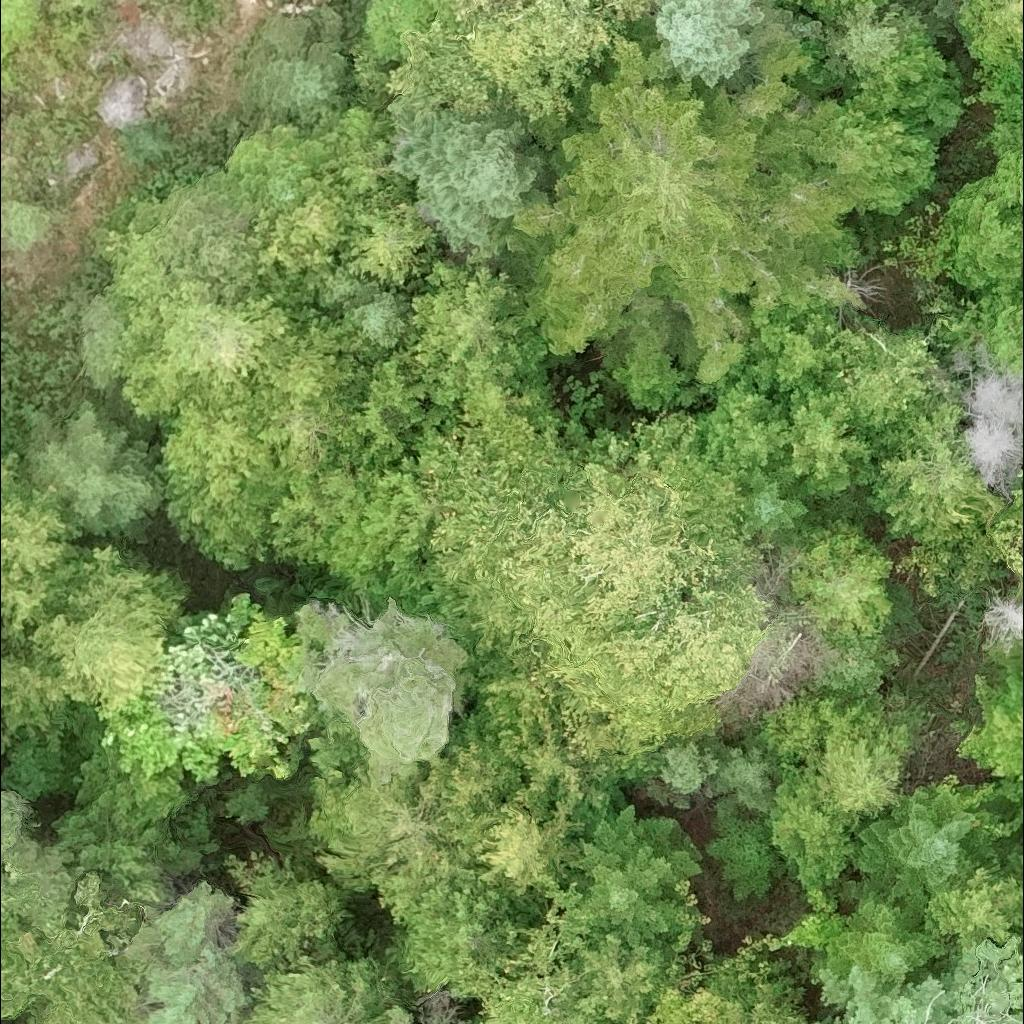crown: (488, 34, 874, 385), (421, 409, 776, 765), (98, 594, 317, 783), (283, 596, 474, 788), (0, 547, 192, 731), (384, 0, 659, 126), (0, 834, 142, 1023), (198, 324, 352, 494), (389, 102, 547, 263), (152, 396, 289, 570), (403, 244, 548, 407), (98, 223, 209, 421), (246, 112, 376, 275), (799, 930, 1023, 1023), (23, 397, 163, 540), (387, 877, 544, 1001), (571, 801, 704, 943), (317, 756, 451, 891), (849, 781, 999, 901), (651, 0, 824, 93), (221, 845, 351, 968), (804, 690, 925, 819), (814, 870, 950, 984), (839, 9, 956, 137), (951, 657, 1023, 846), (783, 517, 897, 636), (759, 762, 870, 883), (478, 901, 586, 1023), (405, 707, 527, 813), (152, 186, 263, 300), (778, 378, 880, 501), (159, 291, 290, 386), (247, 3, 349, 125), (869, 446, 988, 545), (0, 447, 86, 583), (236, 953, 402, 1023), (198, 125, 315, 222), (444, 798, 554, 897), (840, 109, 938, 215), (696, 366, 790, 476), (923, 851, 1023, 950), (700, 792, 788, 903), (342, 196, 439, 295), (943, 174, 1023, 290), (803, 1, 914, 81), (466, 654, 562, 744), (0, 555, 83, 650), (954, 341, 1023, 441), (697, 741, 783, 813), (741, 467, 820, 544), (819, 626, 901, 697), (963, 414, 1023, 496), (955, 0, 1023, 71), (78, 293, 121, 386), (649, 985, 746, 1023), (655, 741, 720, 795), (989, 121, 1023, 222), (989, 480, 1023, 577), (981, 586, 1023, 649), (0, 0, 49, 54), (719, 997, 799, 1023), (795, 0, 894, 20), (0, 788, 22, 857), (984, 633, 1023, 663), (384, 998, 414, 1023), (776, 0, 801, 10), (1016, 575, 1023, 601), (1022, 451, 1023, 457), (0, 371, 0, 375)
